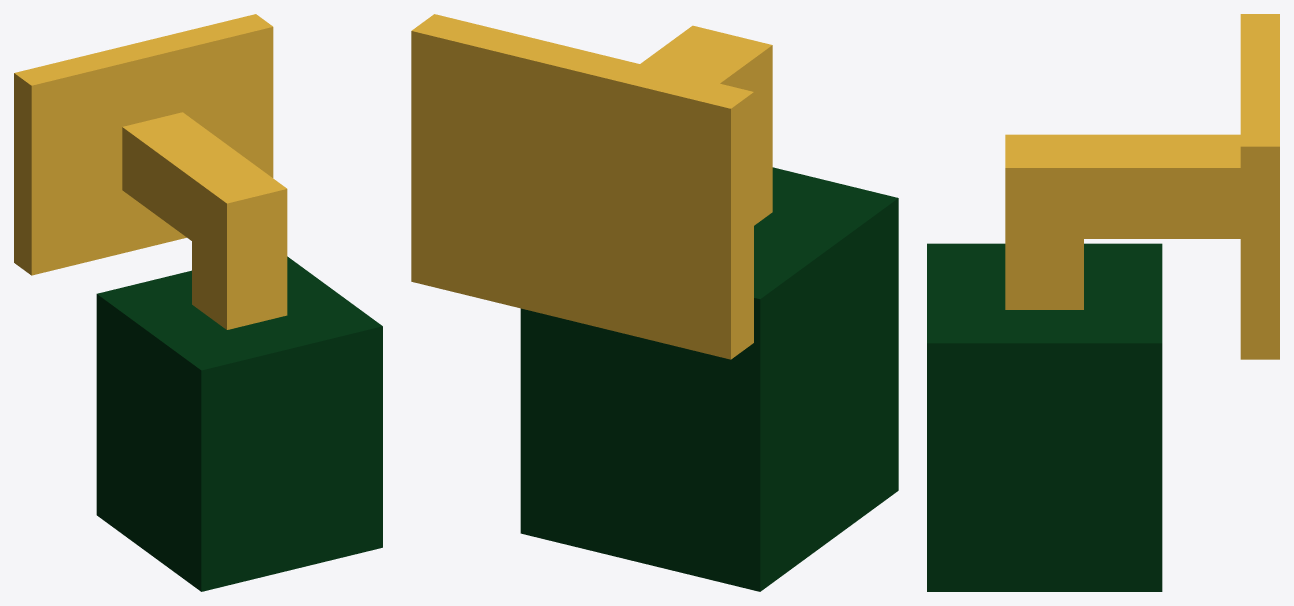
The model's file is WallLamp01.fbx.
The picture shows the model from 3 angles, left to right: view 1: azimuth 30°, elevation 25°; view 2: azimuth 150°, elevation 25°; view 3: azimuth 270°, elevation 25°; orthographic projection. The views are drawn at different scales.
Parts seen in each view (by area): view 1: Matrix; view 2: Matrix; view 3: Matrix.
Boxes of the visible parts, x1,y1,x2,y2 form: Matrix: (14, 14, 382, 591); Matrix: (411, 14, 898, 591); Matrix: (927, 14, 1279, 591).
Bounding box in the file's own units: 8 × 13 × 9.
